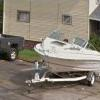Boat: (24, 26, 98, 89)
